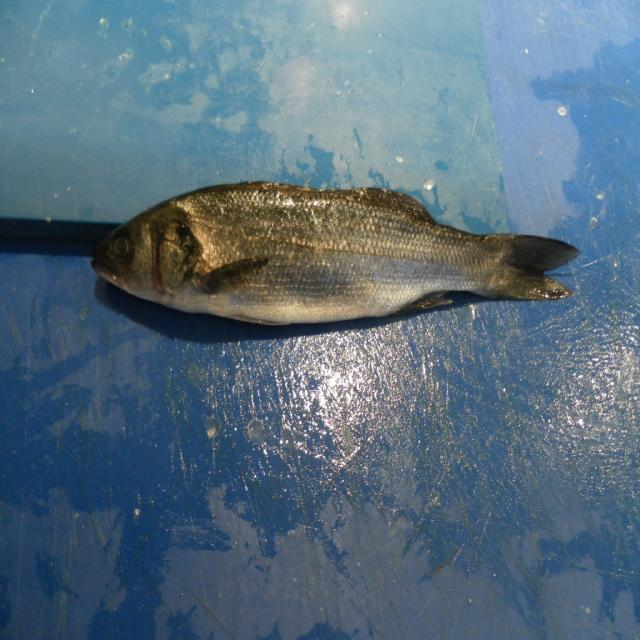Sea-Bass-levrek-: (90, 182, 581, 330)
